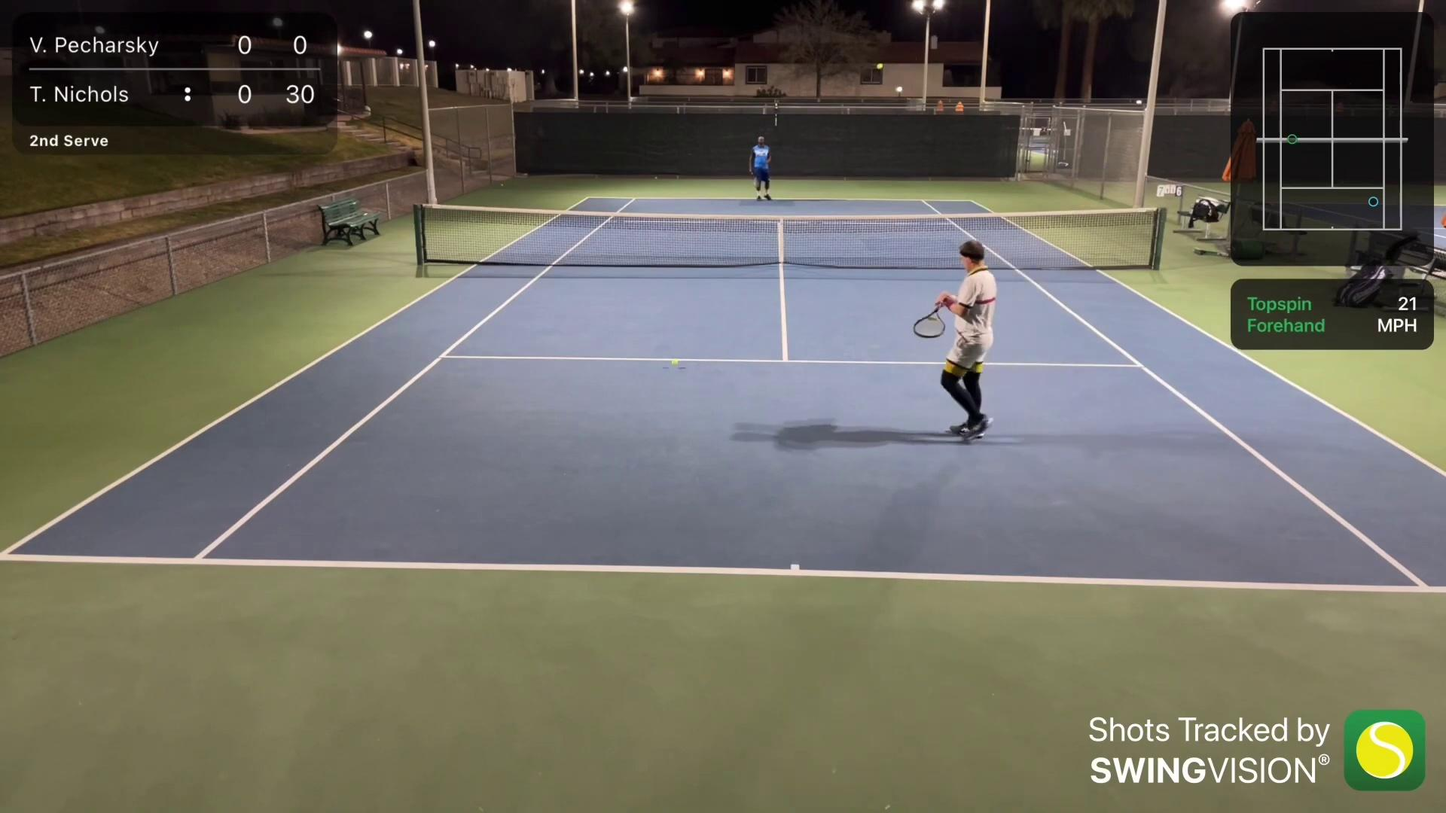ball: (668, 358, 683, 364), (876, 64, 882, 70)
